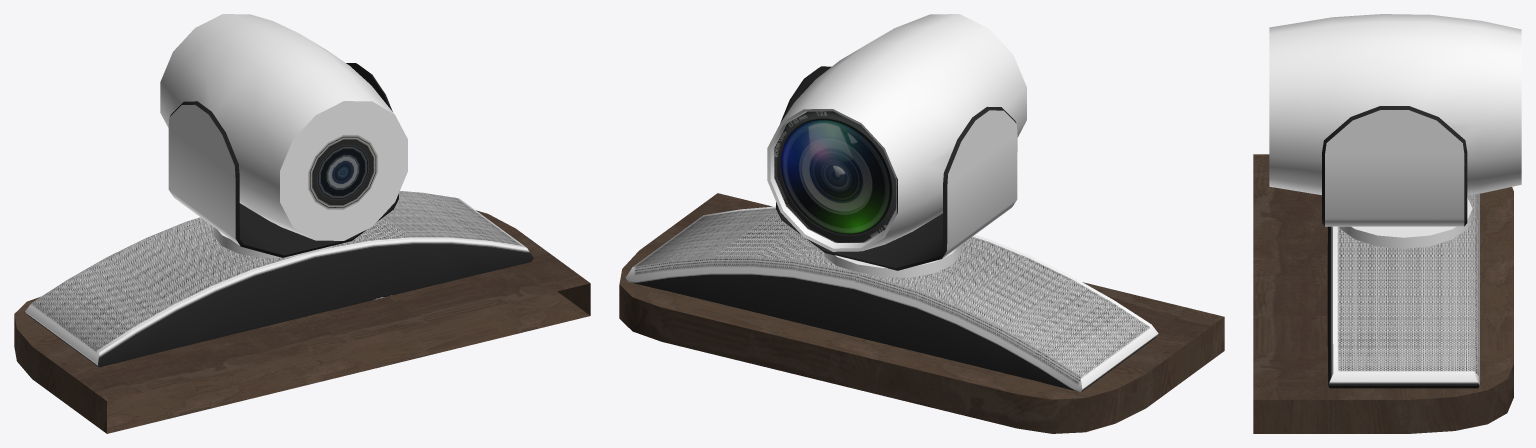
File: CR06_WebCamera.FBX
3 views of the same model, side by side, from view 1: azimuth 30°, elevation 25°; view 2: azimuth 150°, elevation 25°; view 3: azimuth 270°, elevation 25° (orthographic). The views are drawn at different scales.
Parts seen in each view (by area): view 1: CR06_WebCamera; view 2: CR06_WebCamera; view 3: CR06_WebCamera.
Part boxes in pixels (x1,y1,x2,y2): CR06_WebCamera: (14, 14, 590, 433); CR06_WebCamera: (619, 14, 1224, 433); CR06_WebCamera: (1253, 14, 1521, 433).
Size of the model in its own units: 342 by 189 by 158.
Materials: 1 (1 with a texture image).
